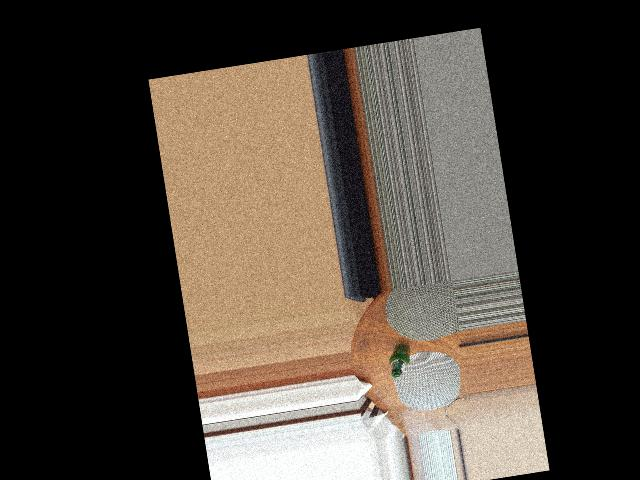beer: (386, 342, 413, 377)
